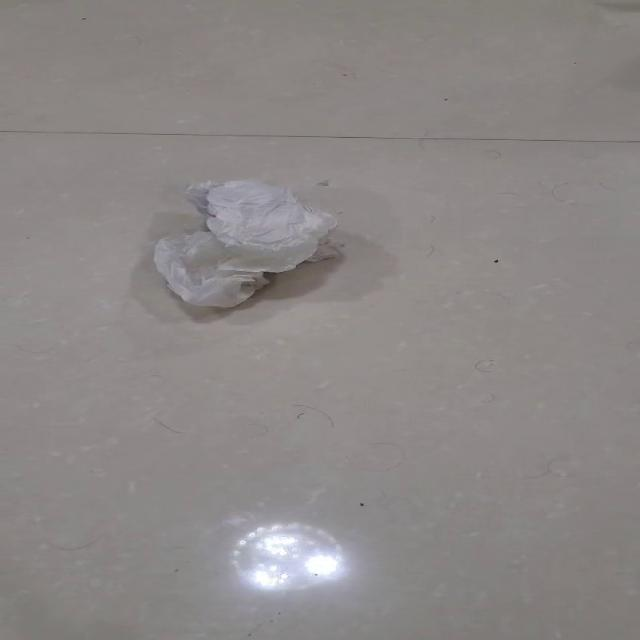plastic: (151, 178, 339, 308)
